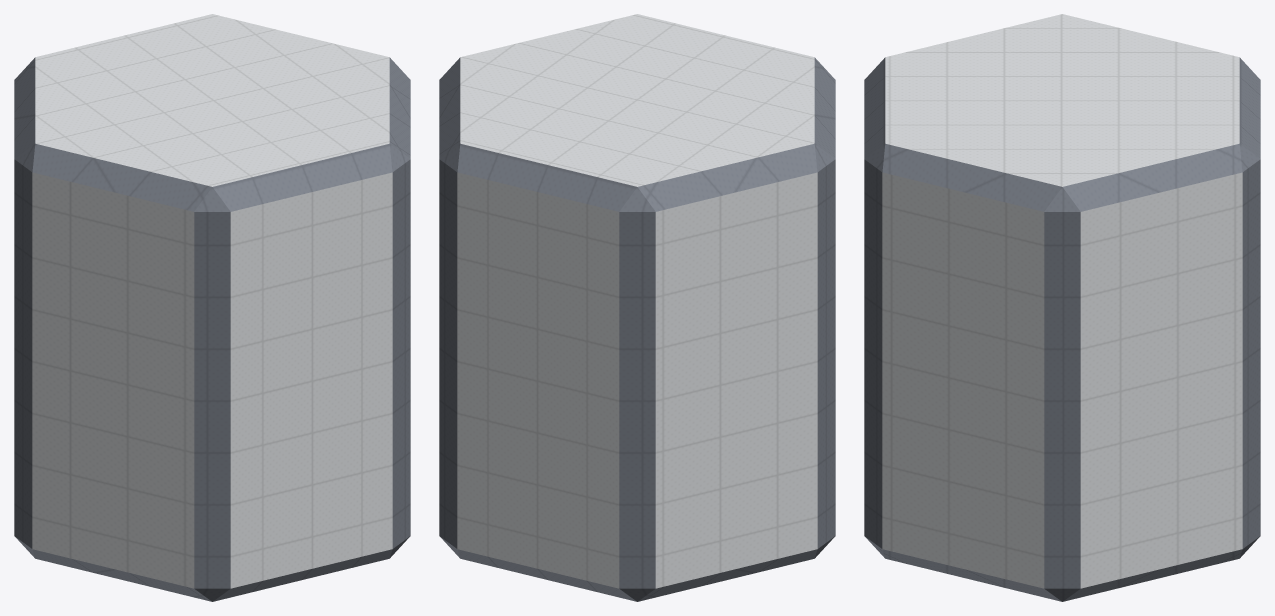
File: R4B_HexColumn_LOD1.glb
3 renders of one model, left to right at view 1: azimuth 30°, elevation 25°; view 2: azimuth 150°, elevation 25°; view 3: azimuth 270°, elevation 25°, orthographic.
Parts seen in each view (by area): view 1: R4B_HexColumn_LOD1; view 2: R4B_HexColumn_LOD1; view 3: R4B_HexColumn_LOD1.
Boxes of the visible parts, x1,y1,x2,y2 form: R4B_HexColumn_LOD1: (14, 14, 410, 601); R4B_HexColumn_LOD1: (439, 14, 835, 601); R4B_HexColumn_LOD1: (864, 14, 1260, 601).
Bounding box in the file's own units: 0.496 × 0.52 × 0.4503.
2 materials, 2 textured.
